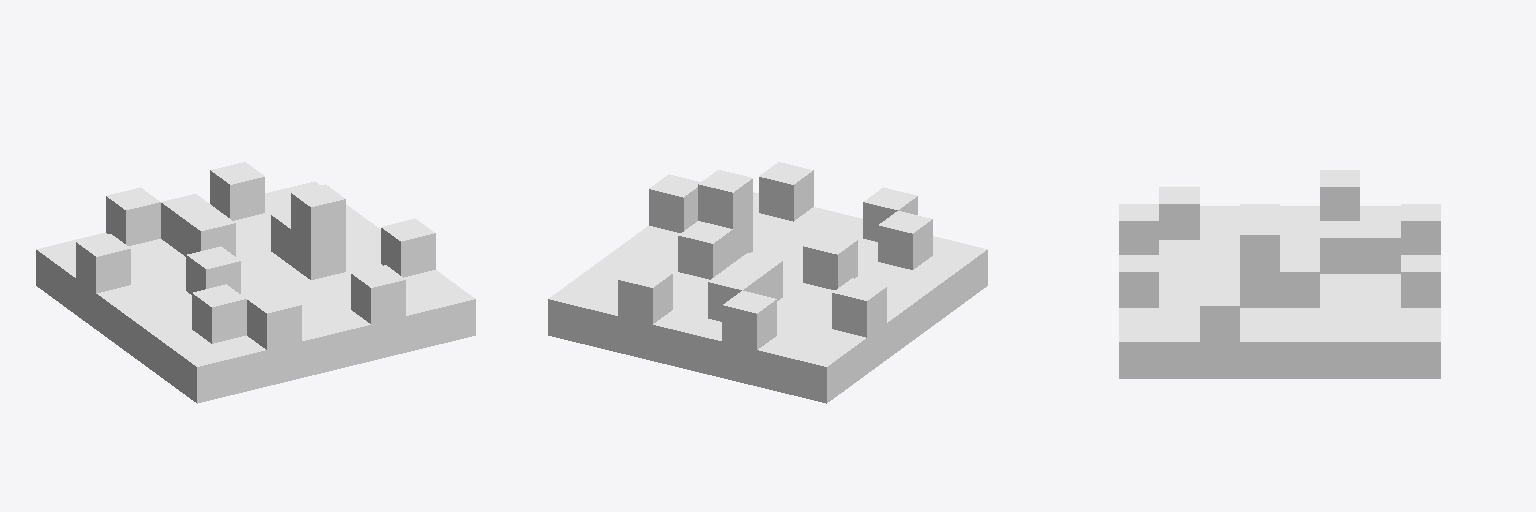
The model's file is NewGrass3.obj.
3 renders of one model, left to right at view 1: azimuth 30°, elevation 25°; view 2: azimuth 150°, elevation 25°; view 3: azimuth 270°, elevation 25°, orthographic.
Parts seen in each view (by area): view 1: object 1; view 2: object 1; view 3: object 1.
Boxes of the visible parts, x1,y1,x2,y2 form: object 1: [36, 162, 475, 403]; object 1: [548, 162, 987, 403]; object 1: [1119, 170, 1440, 378].
Size of the model in its own units: 0.8 by 0.3 by 0.8.